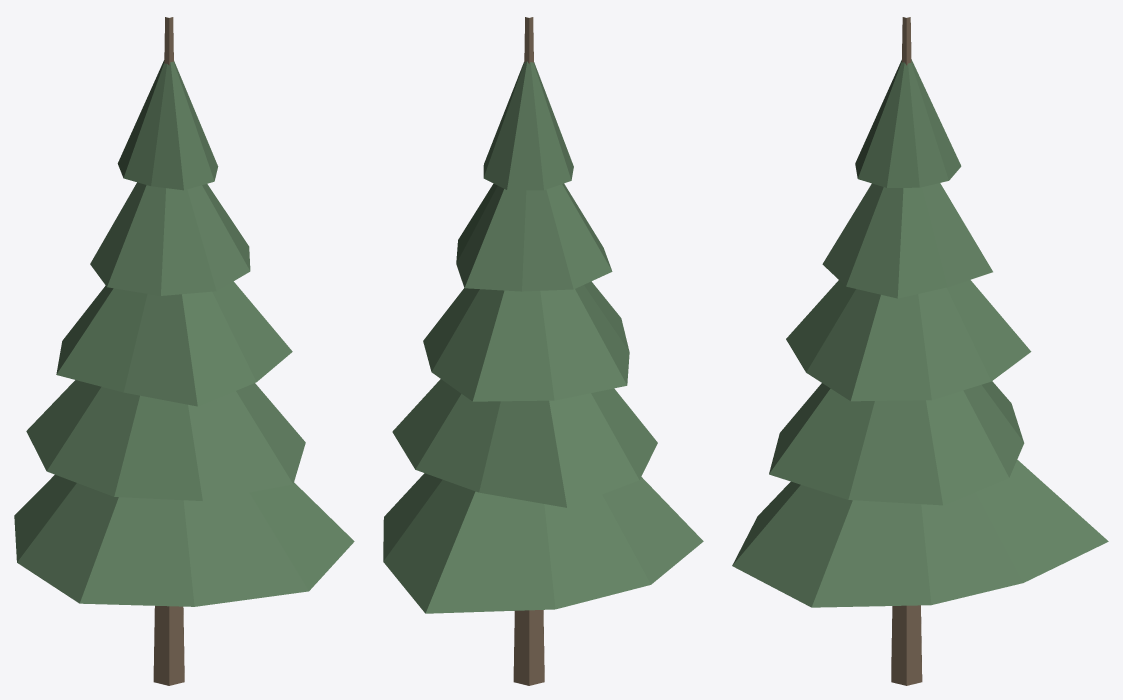
The model's file is TreePine_B.gltf.
3 renders of one model, left to right at view 1: azimuth 30°, elevation 25°; view 2: azimuth 150°, elevation 25°; view 3: azimuth 270°, elevation 25°, orthographic.
Visible parts, largest first — view 1: TreePine_B; view 2: TreePine_B; view 3: TreePine_B.
Boxes of the visible parts, x1,y1,x2,y2 form: TreePine_B: [14, 17, 354, 685]; TreePine_B: [383, 17, 703, 685]; TreePine_B: [732, 17, 1108, 685].
Bounding box in the file's own units: 4.79 × 11.03 × 5.69.
